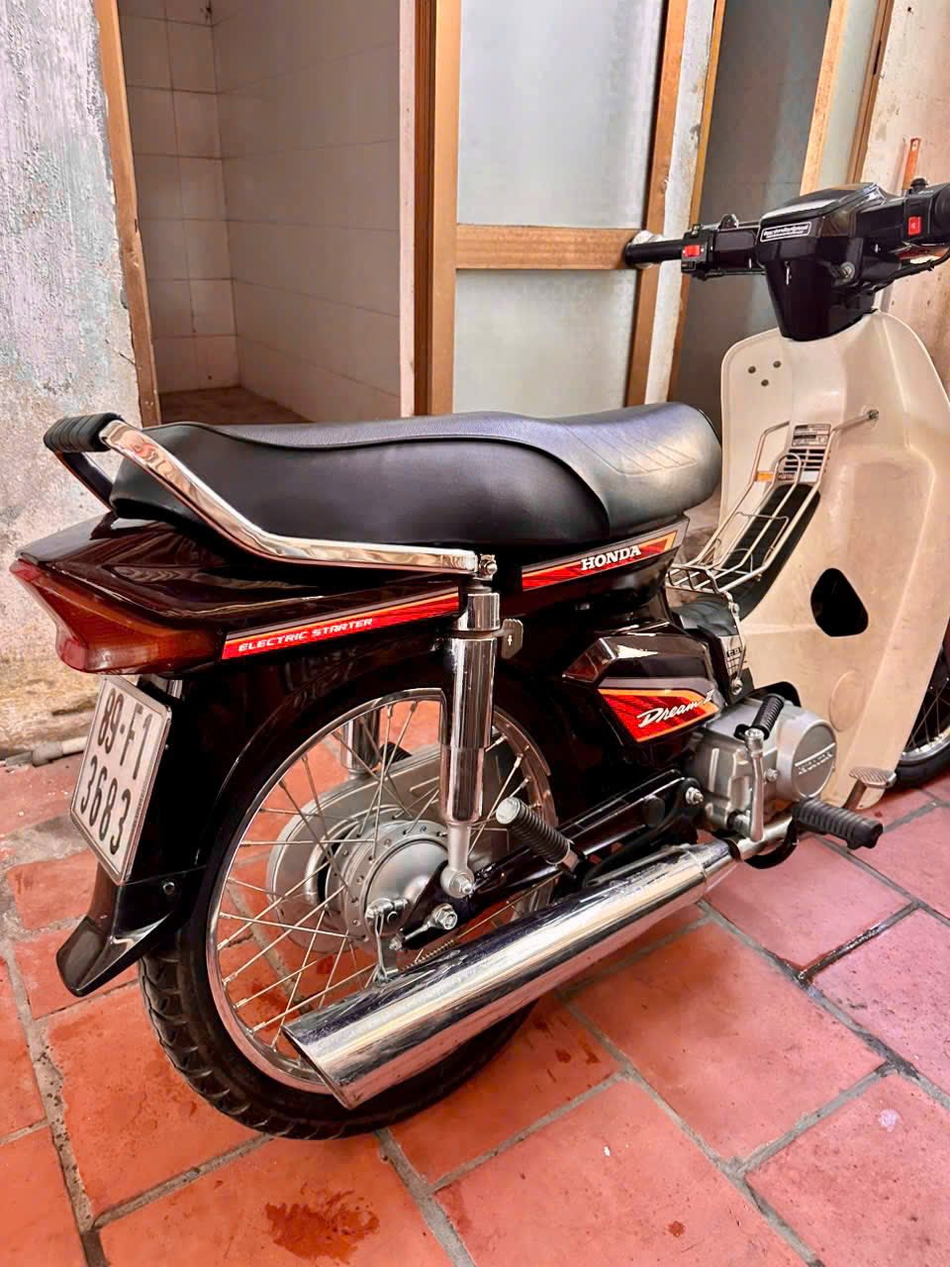bien_so: (61, 656, 184, 899)
